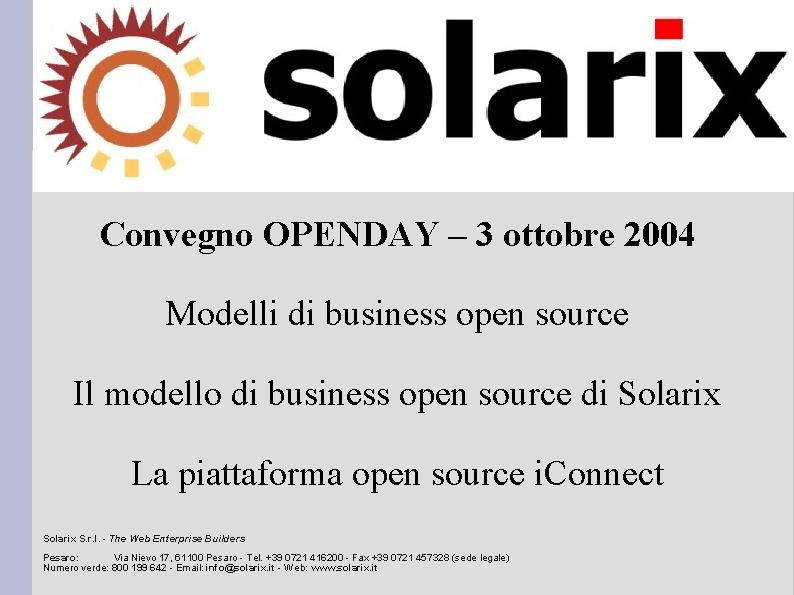title: (259, 4, 787, 181)
